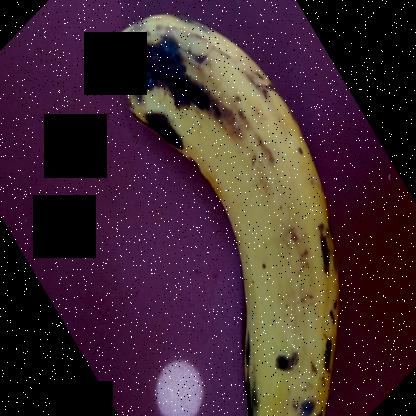overripe: (102, 3, 361, 415)
